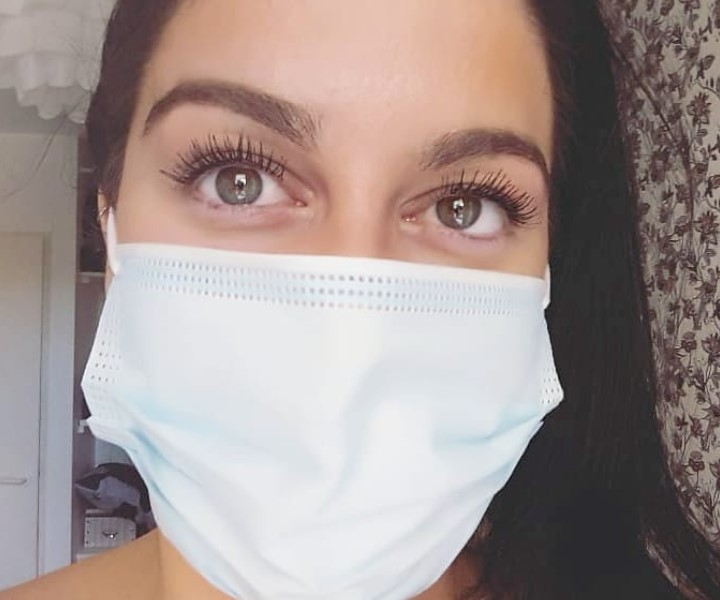face_with_mask: (84, 3, 575, 600)
